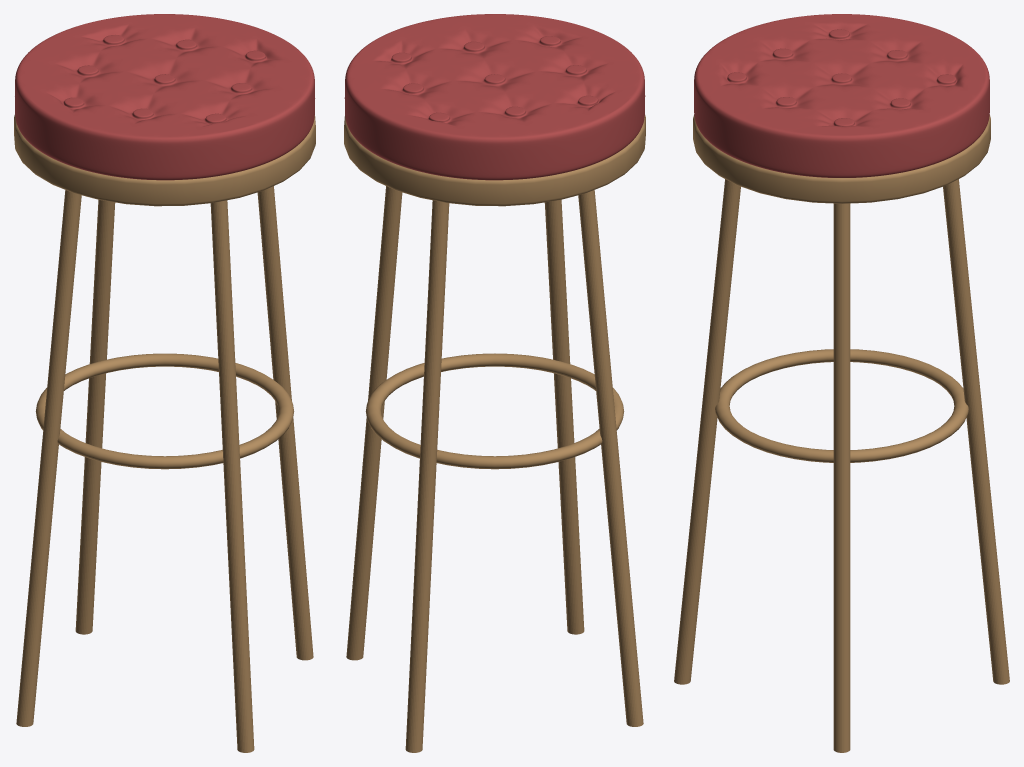
File: Stool.fbx
The picture shows the model from 3 angles, left to right: view 1: azimuth 30°, elevation 25°; view 2: azimuth 150°, elevation 25°; view 3: azimuth 270°, elevation 25°; orthographic projection.
Visible parts, largest first — view 1: Stool, Stool_cushion; view 2: Stool, Stool_cushion; view 3: Stool, Stool_cushion.
Part boxes in pixels (left/top/right/bottom): Stool: left=14, top=115, right=315, bottom=752; Stool_cushion: left=15, top=14, right=315, bottom=180; Stool: left=344, top=115, right=645, bottom=752; Stool_cushion: left=344, top=14, right=645, bottom=180; Stool: left=674, top=114, right=1009, bottom=752; Stool_cushion: left=694, top=14, right=989, bottom=177.
Bounding box in the file's own units: 9.06 × 18.06 × 9.06.
